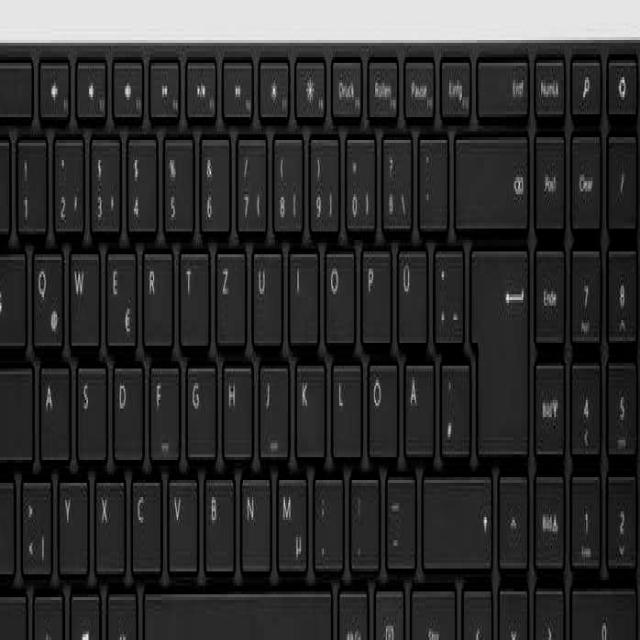0: (341, 123, 373, 226)
1: (13, 126, 45, 229)
2: (50, 126, 82, 229)
3: (89, 129, 121, 234)
4: (123, 126, 154, 226)
5: (163, 132, 195, 235)
6: (197, 126, 228, 226)
7: (236, 129, 266, 232)
8: (269, 123, 300, 228)
9: (305, 123, 337, 226)
a: (36, 352, 67, 455)
accent: (415, 123, 446, 223)
ae: (401, 349, 431, 452)
alt-left: (104, 580, 136, 640)
altgr-right: (335, 577, 367, 640)
b: (200, 466, 232, 566)
c: (128, 466, 159, 566)
caret: (0, 126, 16, 229)
comma: (310, 463, 340, 563)
d: (110, 355, 140, 455)
del: (451, 123, 526, 223)
e: (102, 237, 134, 343)
enter: (468, 235, 527, 455)
f: (146, 352, 177, 455)
g: (183, 355, 214, 452)
h: (219, 352, 250, 452)
hash: (436, 349, 467, 449)
i: (285, 237, 316, 337)
j: (256, 352, 286, 452)
k: (292, 352, 323, 452)
keyboard: (0, 14, 640, 640)
l: (328, 352, 359, 452)
less: (17, 466, 50, 569)
m: (274, 463, 305, 566)
minus: (382, 463, 413, 563)
n: (237, 466, 268, 566)
o: (321, 237, 352, 337)
oe: (368, 357, 399, 457)
p: (358, 237, 389, 337)
plus: (429, 234, 461, 337)
point: (346, 463, 377, 563)
q: (29, 240, 61, 343)
r: (139, 237, 170, 340)
s: (73, 355, 104, 455)
shift-left: (0, 468, 17, 568)
shift-lock: (0, 354, 30, 457)
shift-right: (420, 460, 490, 563)
space: (140, 577, 331, 640)
ss: (381, 129, 412, 232)
strg-left: (0, 580, 25, 640)
strg-right: (407, 577, 457, 640)
t: (176, 240, 206, 340)
tab: (0, 237, 23, 343)
u: (249, 237, 280, 343)
ue: (394, 237, 425, 340)
v: (165, 466, 195, 563)
w: (65, 237, 96, 343)
x: (92, 466, 123, 566)
y: (54, 466, 85, 569)
z: (213, 237, 243, 340)
